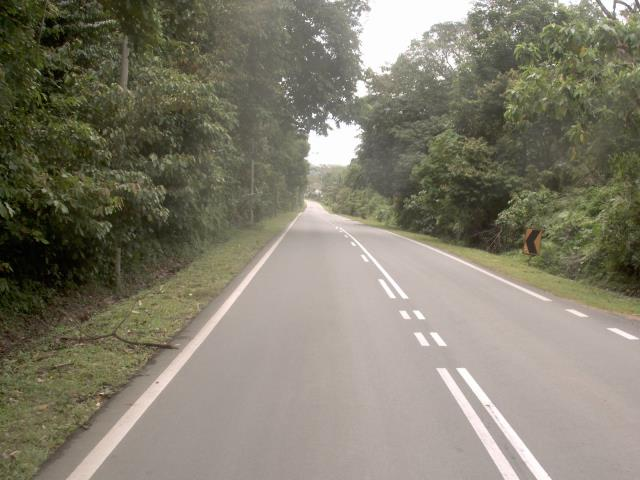traffic_sign: (518, 222, 547, 262)
